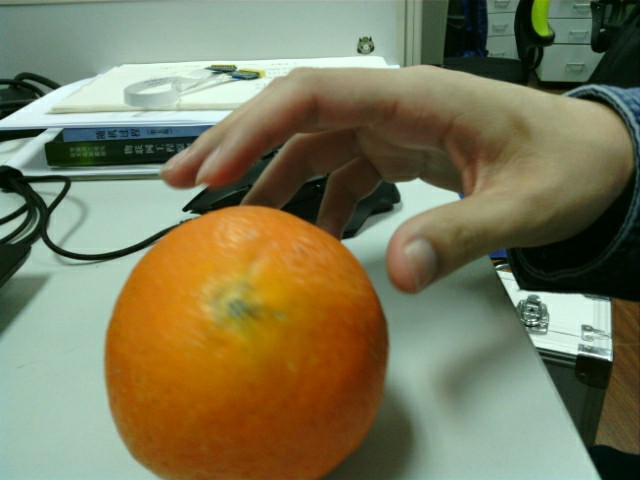normal_orange: (107, 204, 385, 474)
